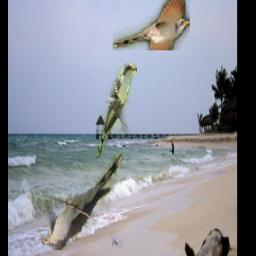Cuckoo: (41, 154, 124, 251), (113, 0, 190, 51), (96, 64, 137, 159)
